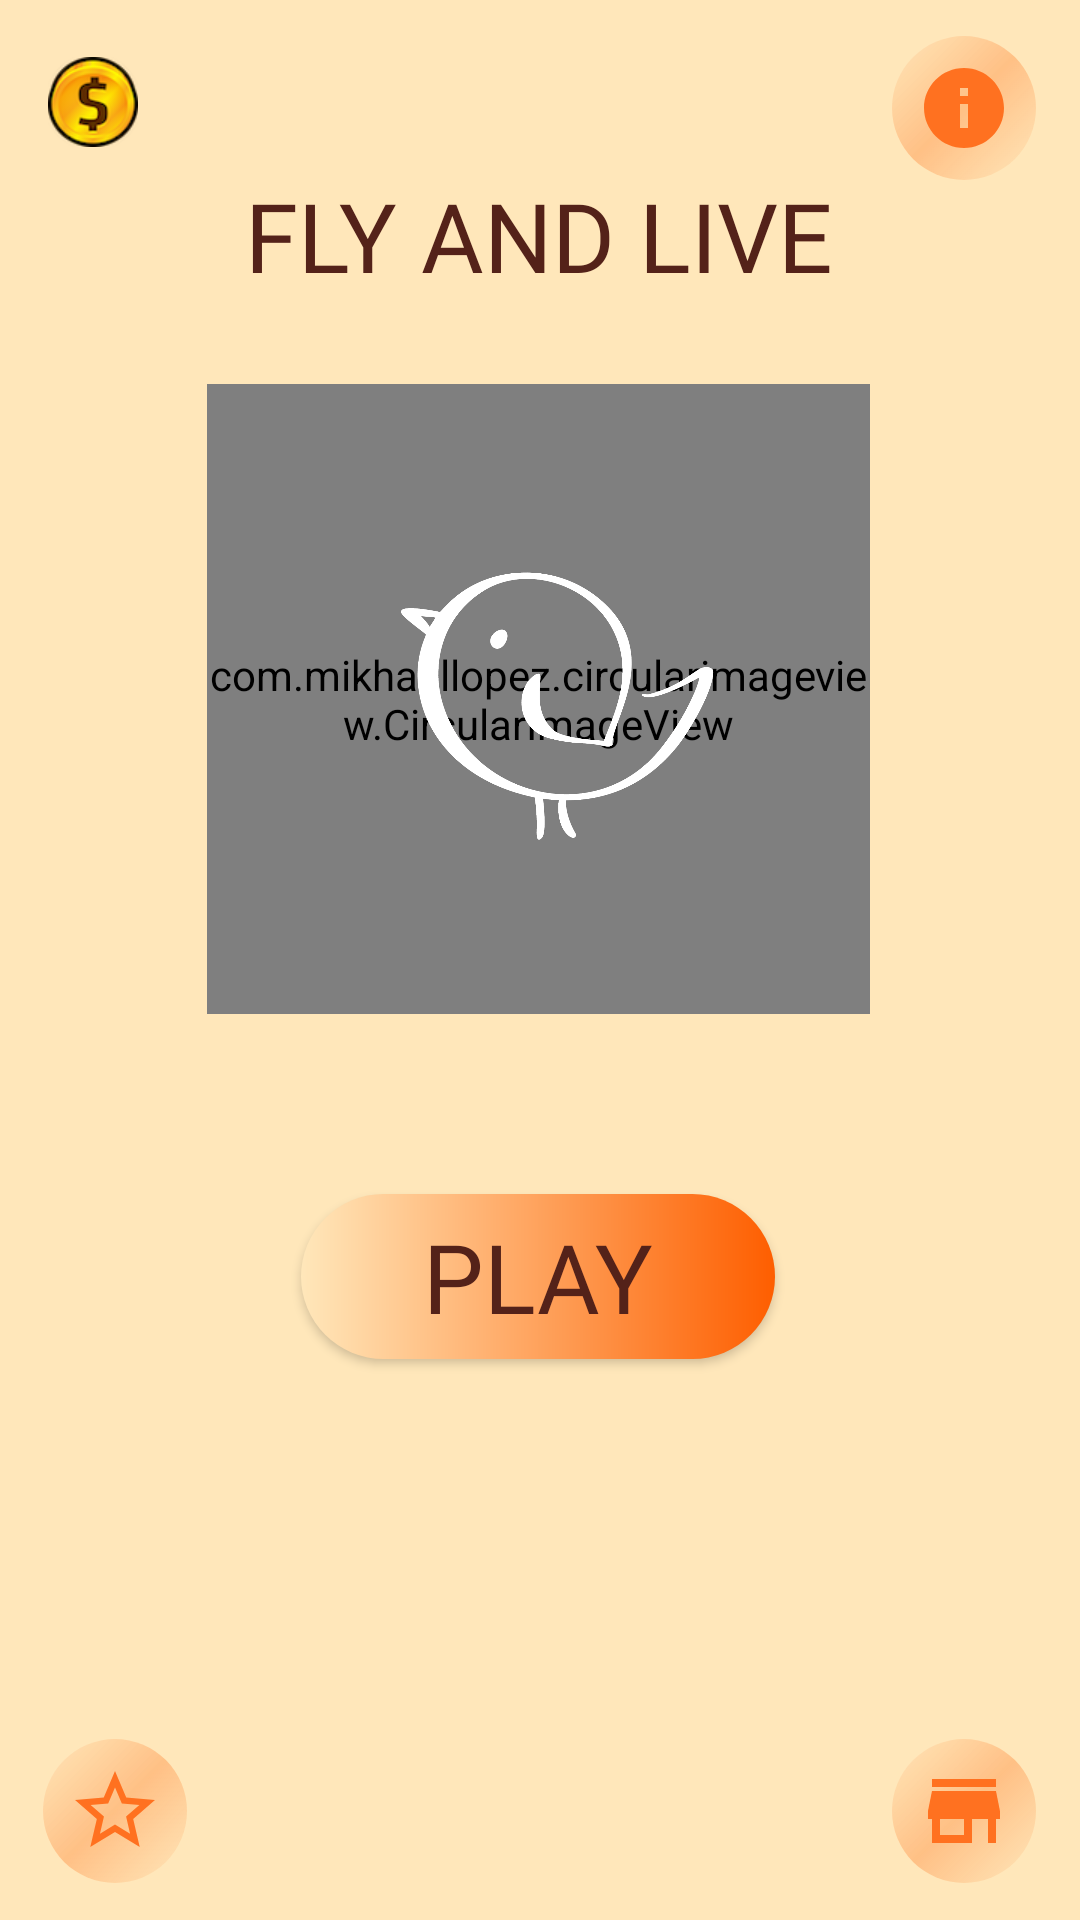

Screen size 1080w x 1920h. Icon name, then its box in pixels as (x1, y1, x2, y2):
coin: (48, 57, 138, 147)
info: (892, 36, 1036, 180)
star: (43, 1739, 187, 1883)
store: (892, 1739, 1036, 1883)
